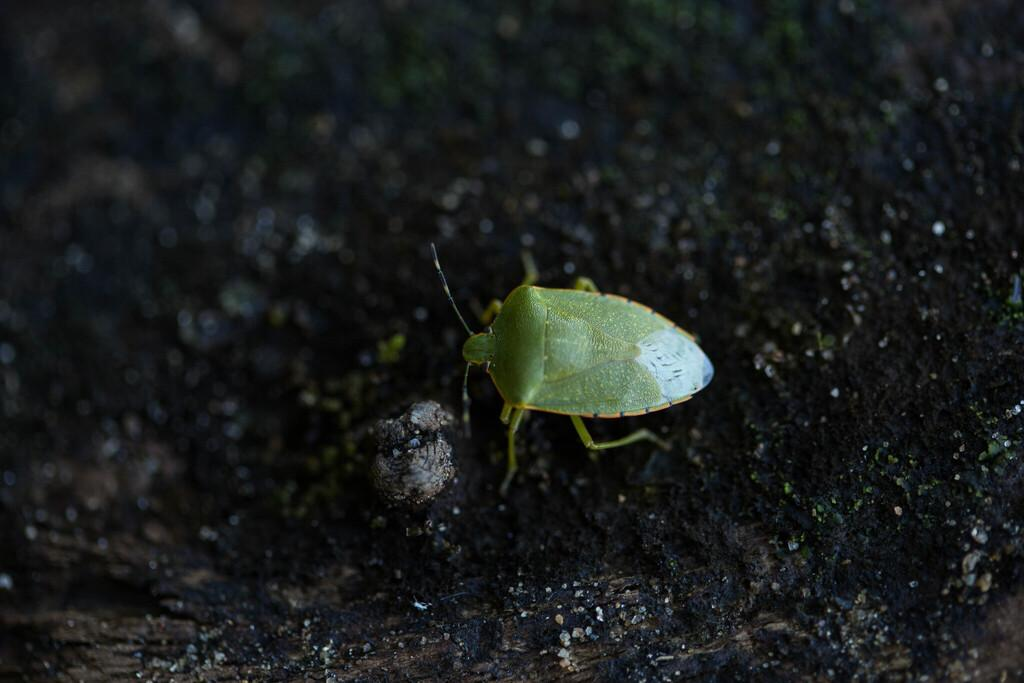stink_bugs: (397, 205, 747, 512)
